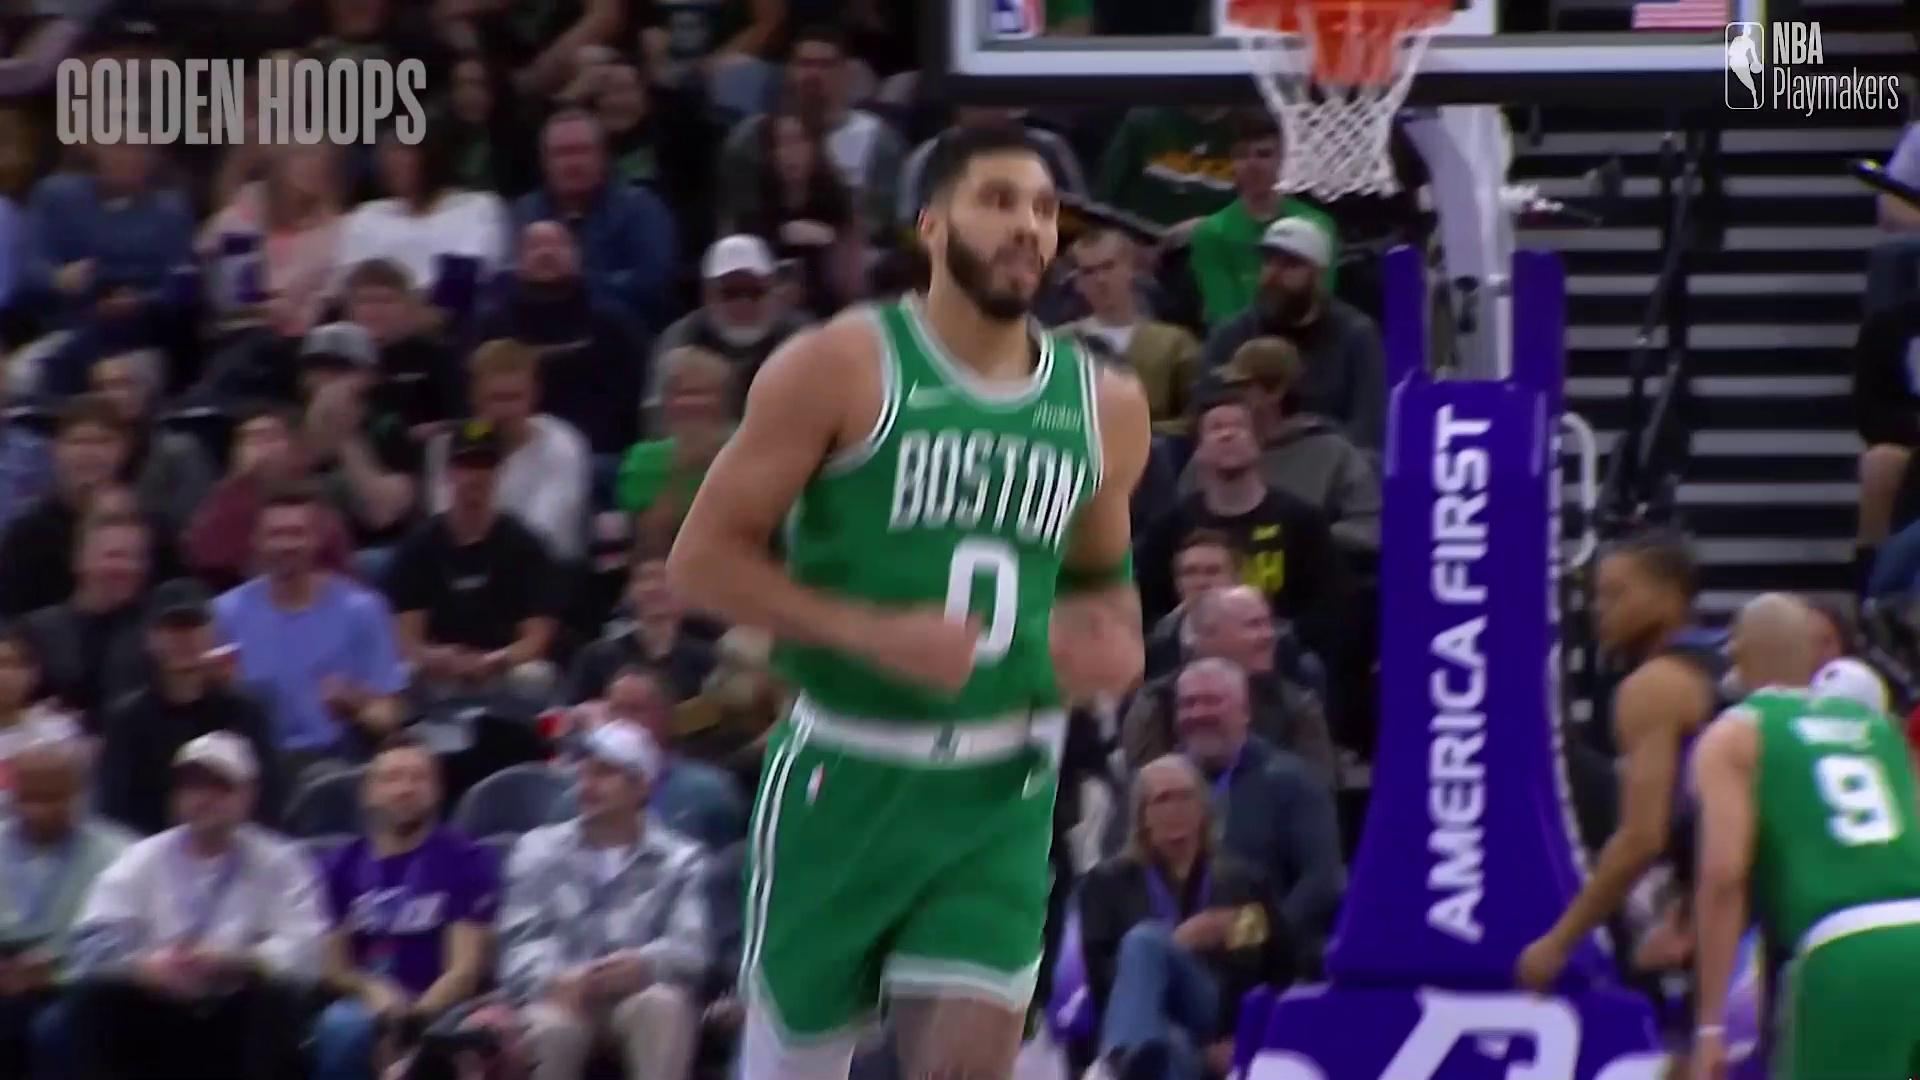hoop: (1250, 0, 1433, 203)
